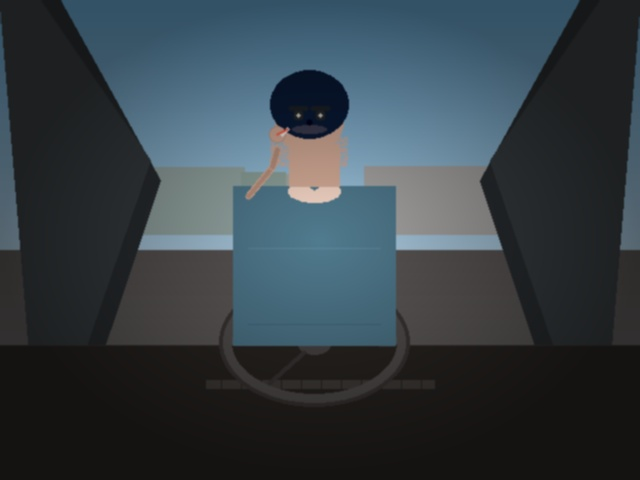smoking: (267, 119, 292, 149)
